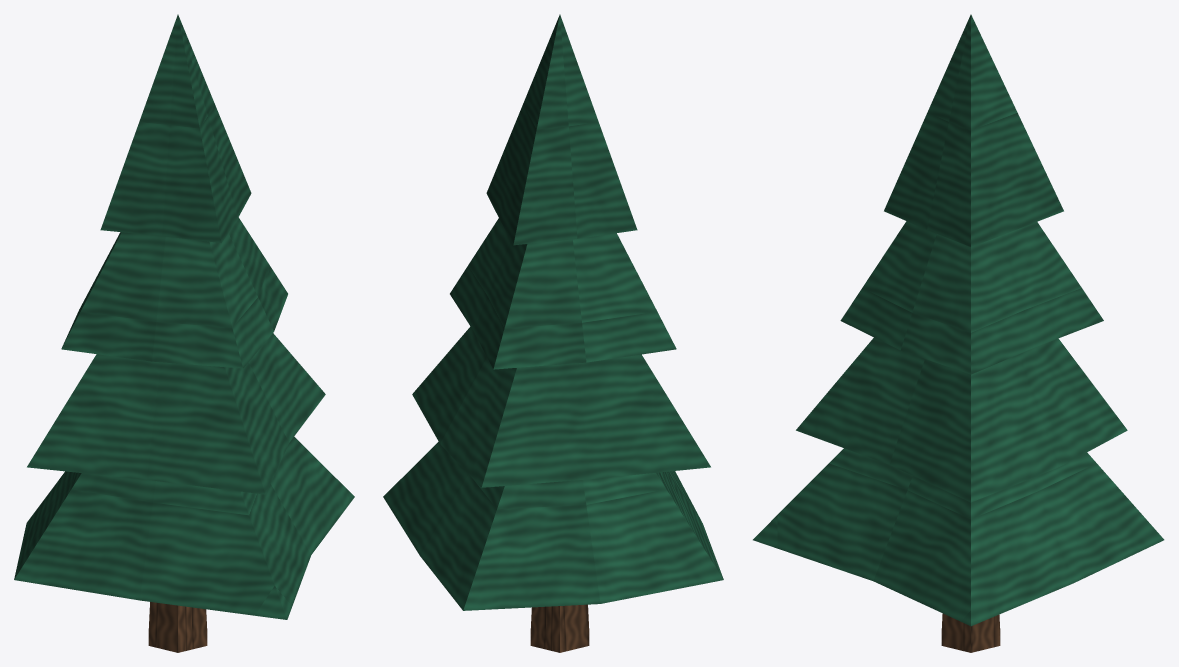
File: Tree_Pine.glb
3 renders of one model, left to right at view 1: azimuth 30°, elevation 25°; view 2: azimuth 150°, elevation 25°; view 3: azimuth 270°, elevation 25°, orthographic.
Visible parts, largest first — view 1: Tree_Pine; view 2: Tree_Pine; view 3: Tree_Pine.
Boxes of the visible parts, left/top/right/bottom form: Tree_Pine: left=14, top=14, right=354, bottom=652; Tree_Pine: left=383, top=14, right=723, bottom=652; Tree_Pine: left=753, top=14, right=1164, bottom=652.
Bounding box in the file's own units: 3.26 × 5.7 × 3.41.
2 materials, 2 textured.
